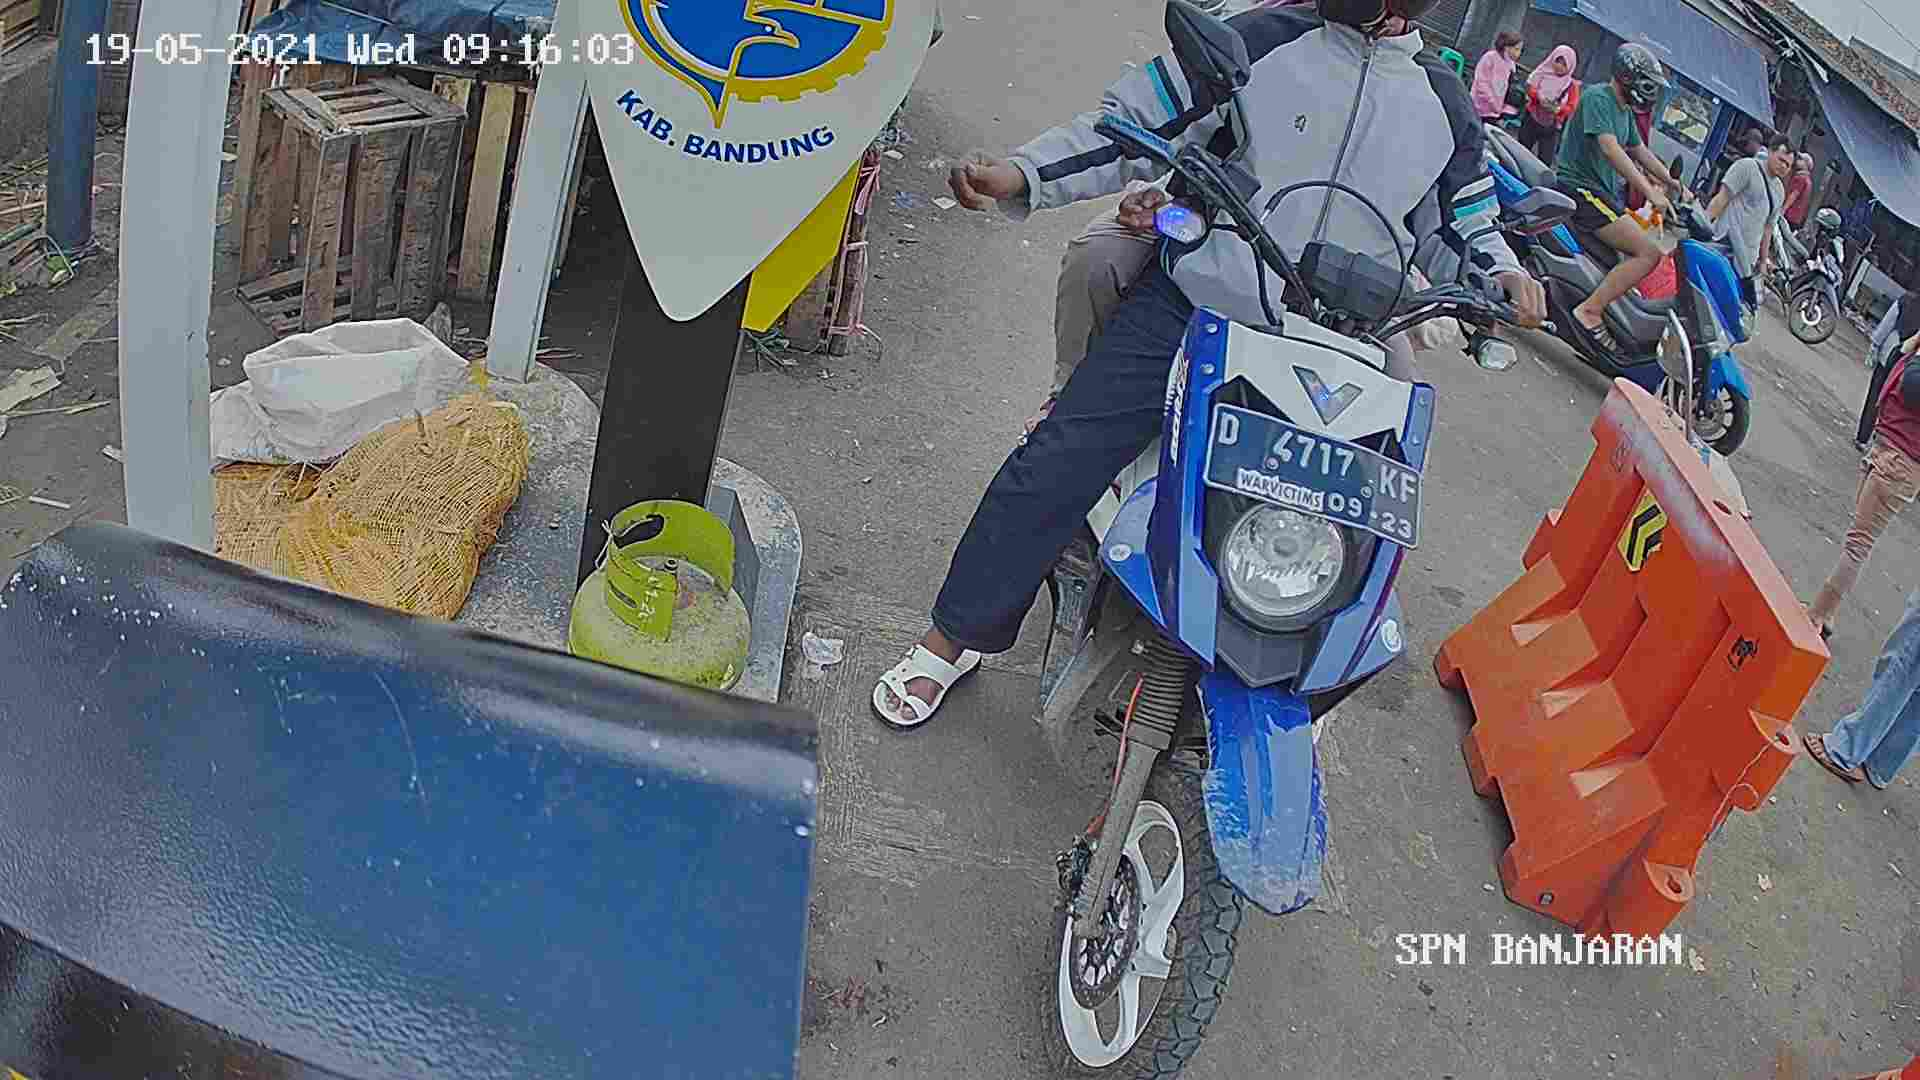motor: (1022, 153, 1451, 1080)
